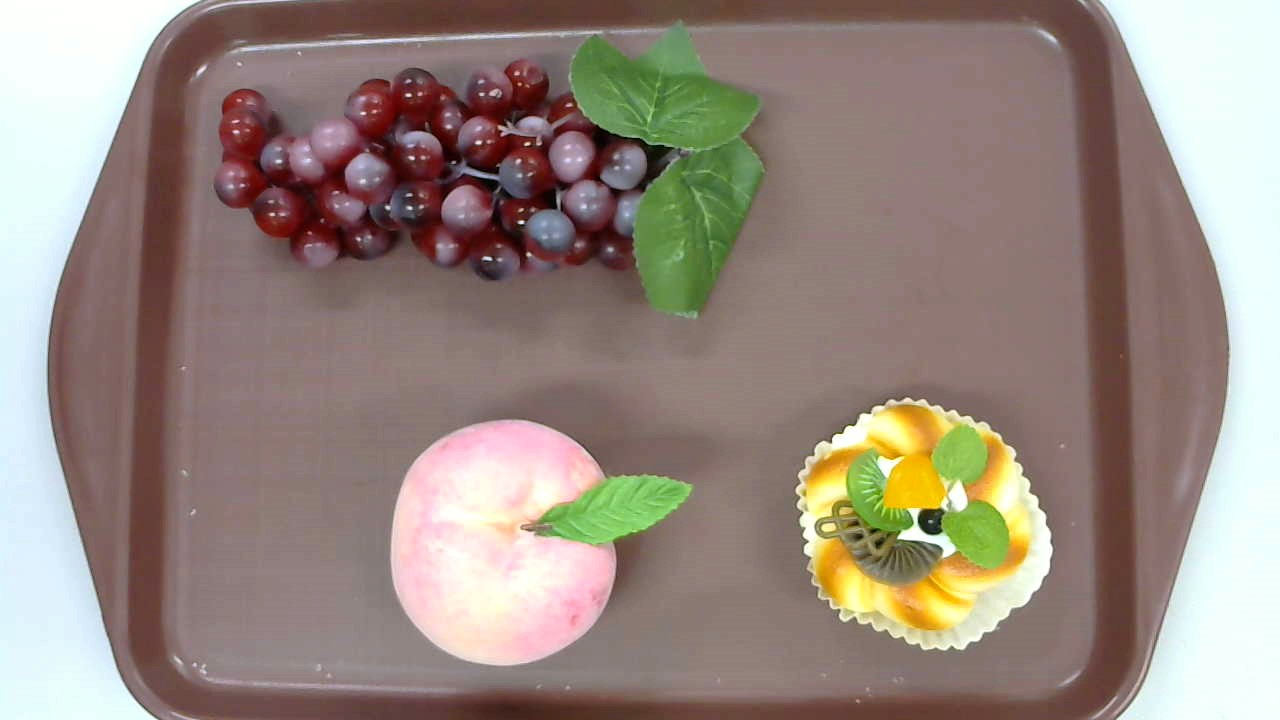fruit tart: (794, 397, 1053, 651)
grape: (210, 19, 767, 319)
peach: (389, 418, 693, 669)
